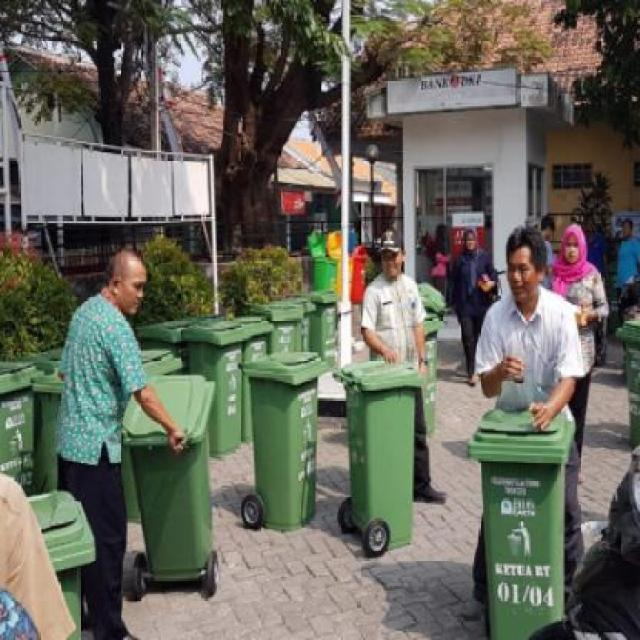garbage container: (467, 401, 583, 640), (123, 372, 222, 609), (334, 355, 430, 561), (237, 351, 340, 542), (29, 489, 102, 640), (3, 352, 45, 497)
